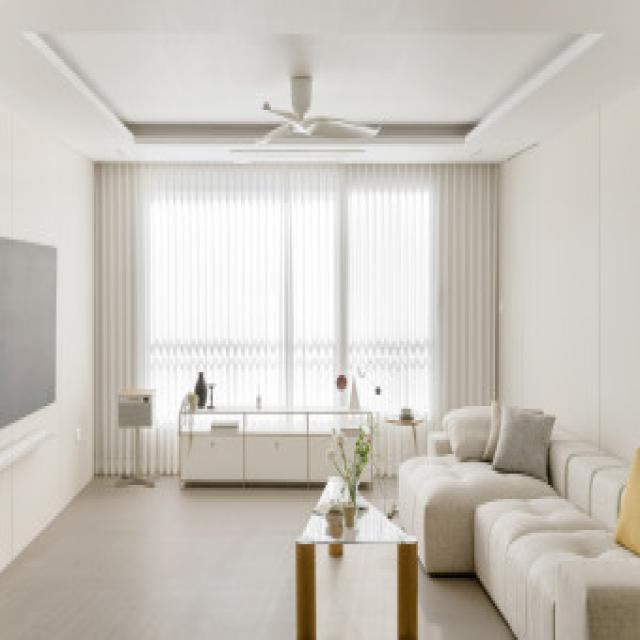Sofa: (403, 412, 640, 626)
Table: (295, 477, 423, 632)
tv: (2, 237, 58, 425)
window: (94, 162, 493, 404)
